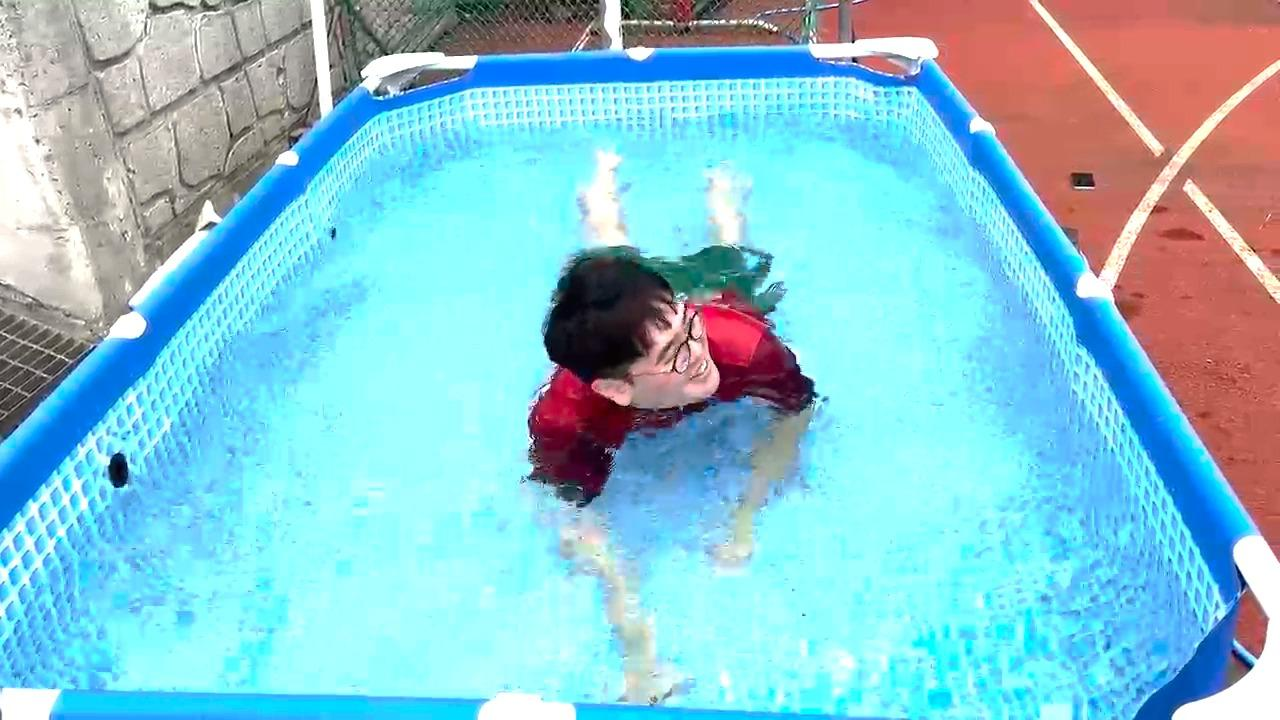Swimming: (472, 100, 878, 709)
